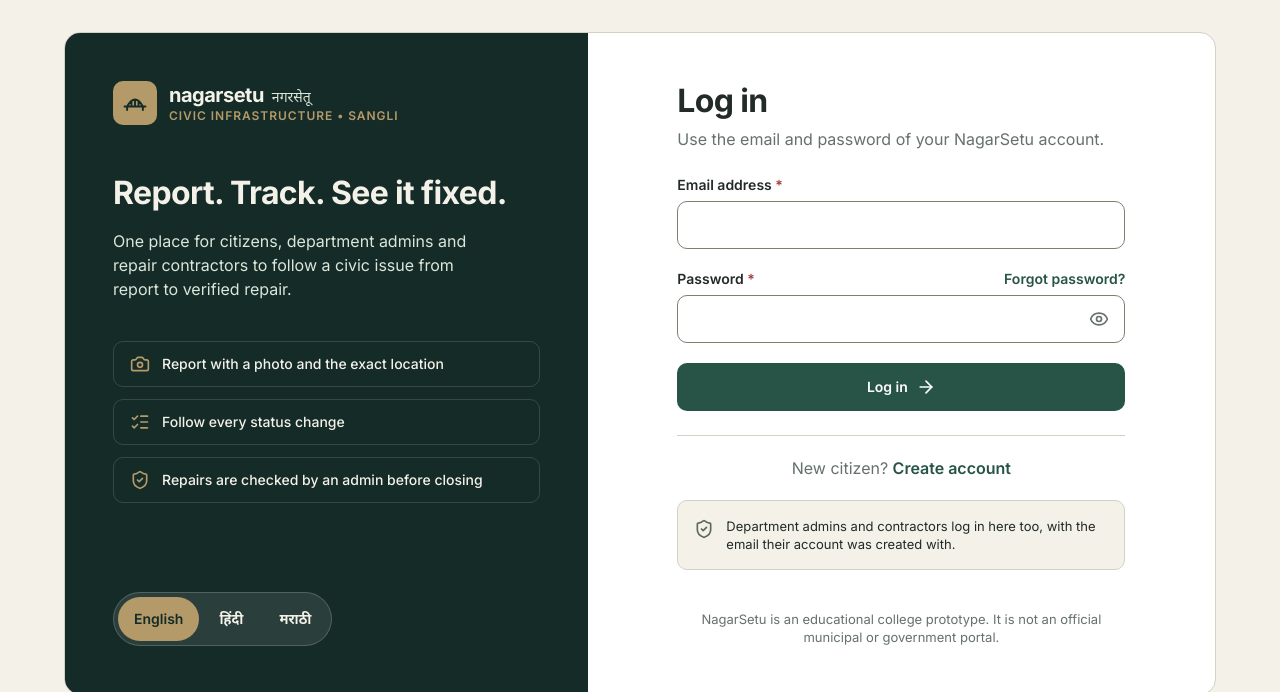
Test: login and role redirect › shows one generic error for wrong credentials
In the field labelled "Email address *": (901, 225) [677,201,1125,249], type "x@example.com"
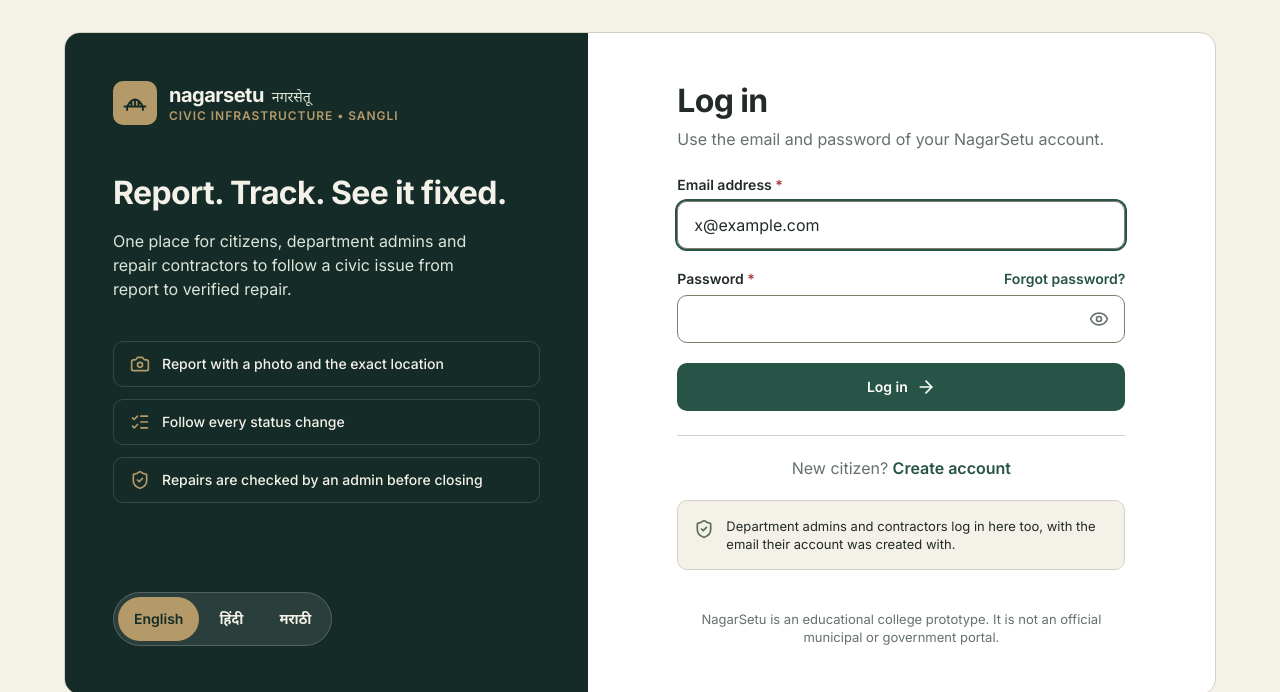
In the password field labelled "Password *": (901, 319) [677,295,1125,343], type "secret-pass"
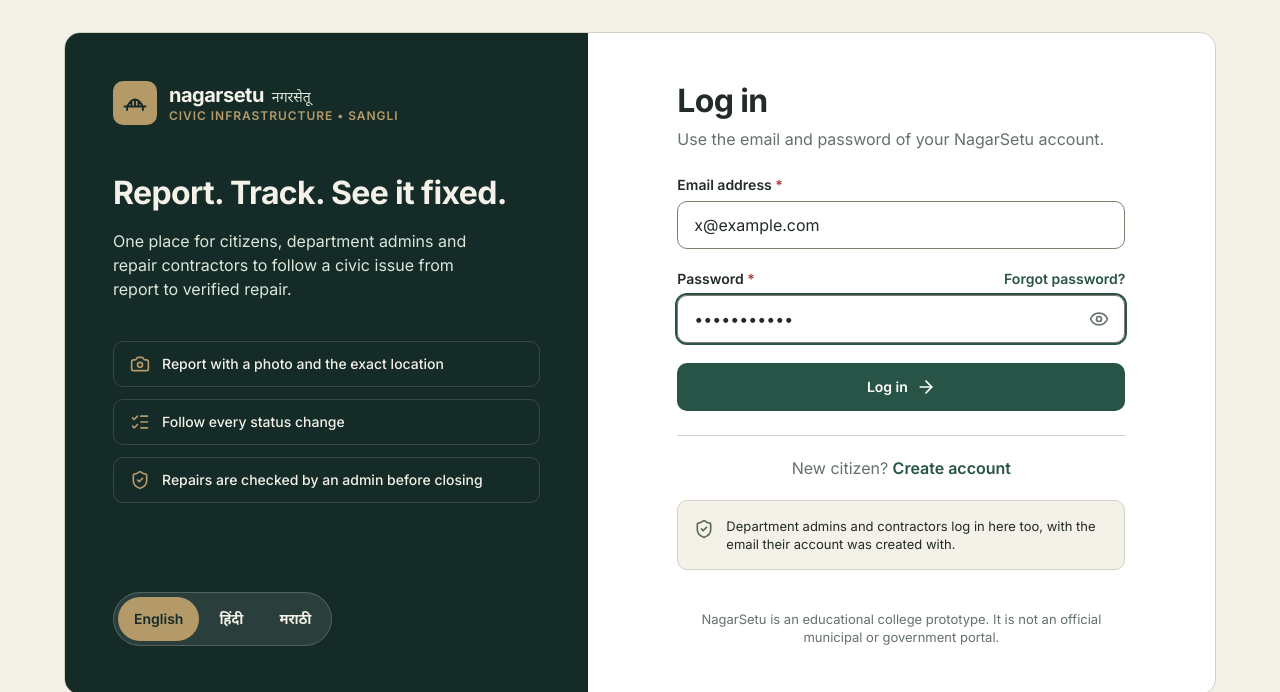
Click the button "Log in": (901, 387) [677,363,1125,411]
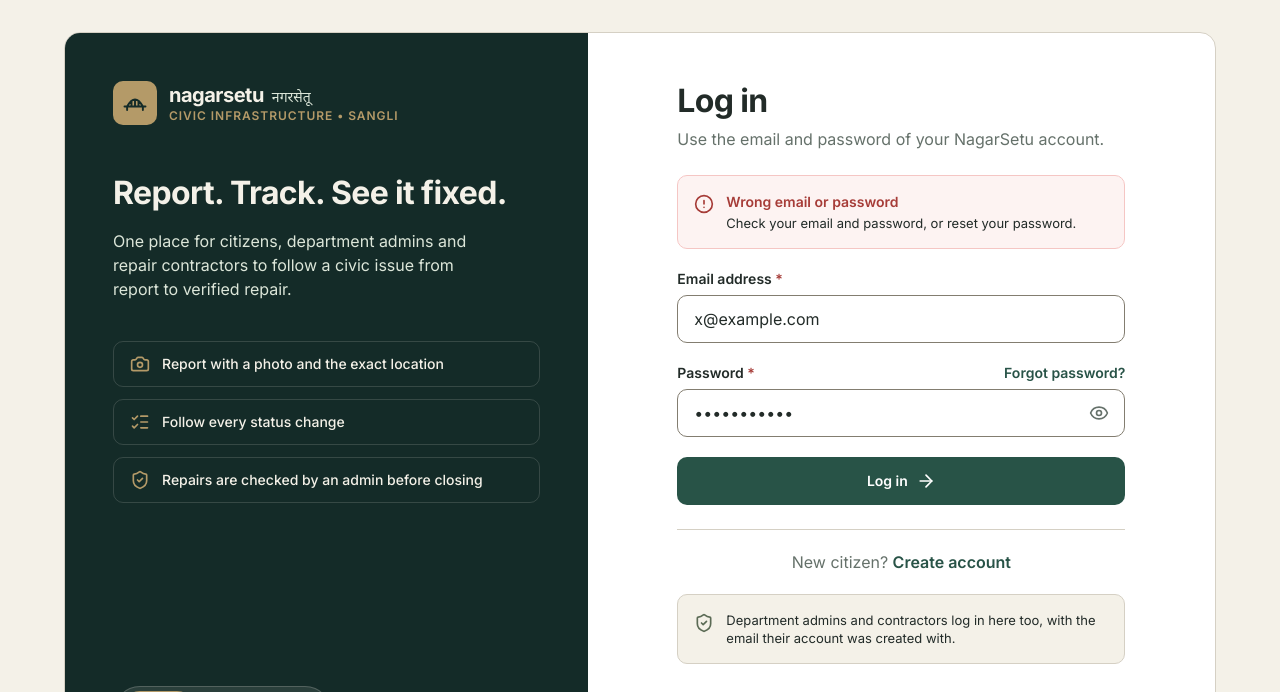
Expected: the message shows "Wrong email or password", [726,193,899,210]
